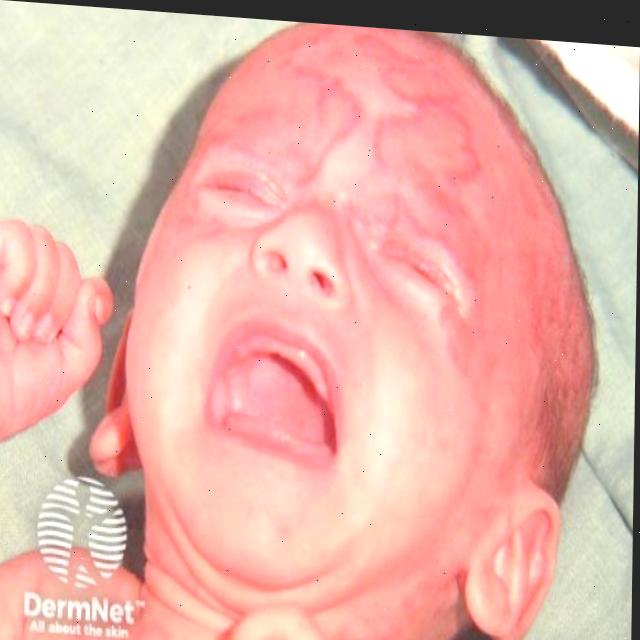lupus-detected: (248, 19, 529, 233)
